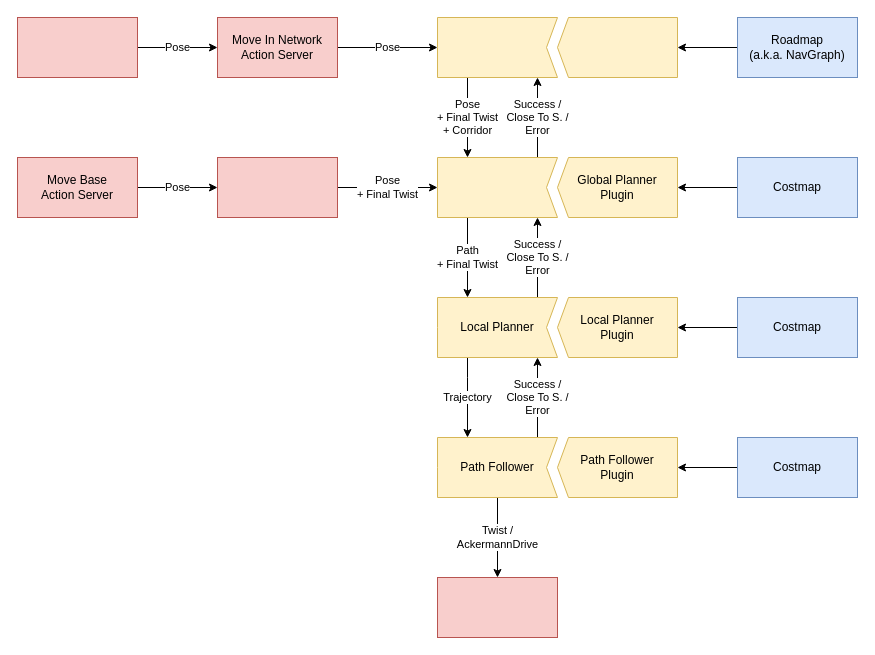
Image size: 875x655. Some labels were removed from this diagram. The shapes that lost their labels are listed below. From the top down, each one's centre as x and y in pixels, then its label:
At point (77, 47): "Move Base Simple Goal Subscriber".
At point (497, 47): "Network Planner".
At point (617, 47): "Network Planner Plugin".
At point (277, 187): "Follow Target Action Server".
At point (497, 187): "Global Planner".
At point (497, 607): "Command Publisher".
